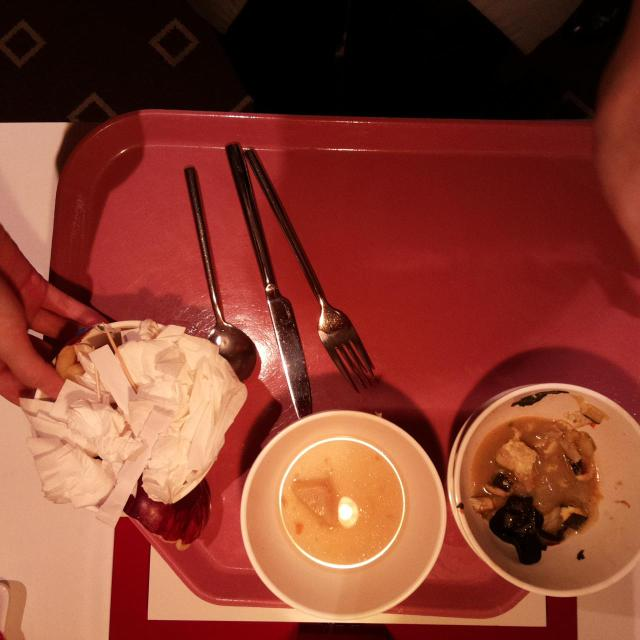Vegetable: (490, 489, 546, 567)
